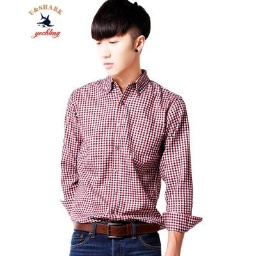face: (90, 1, 153, 77)
